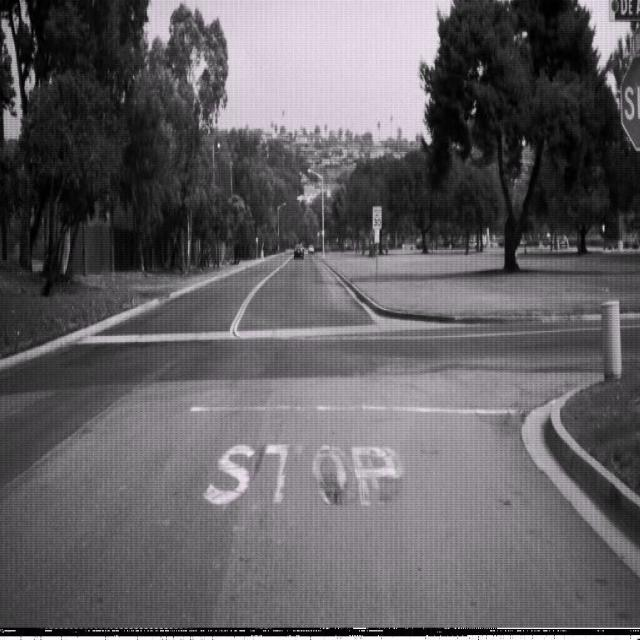speedLimit30: (372, 205, 382, 229)
